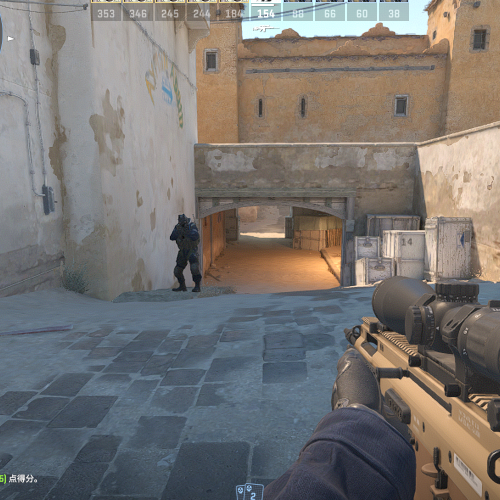ct_body: (171, 212, 203, 292)
ct_head: (177, 213, 189, 226)
